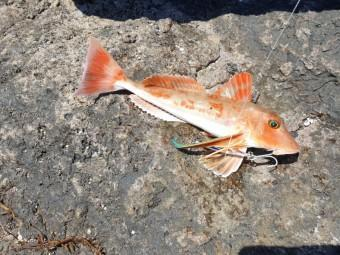fish: (75, 39, 300, 177)
